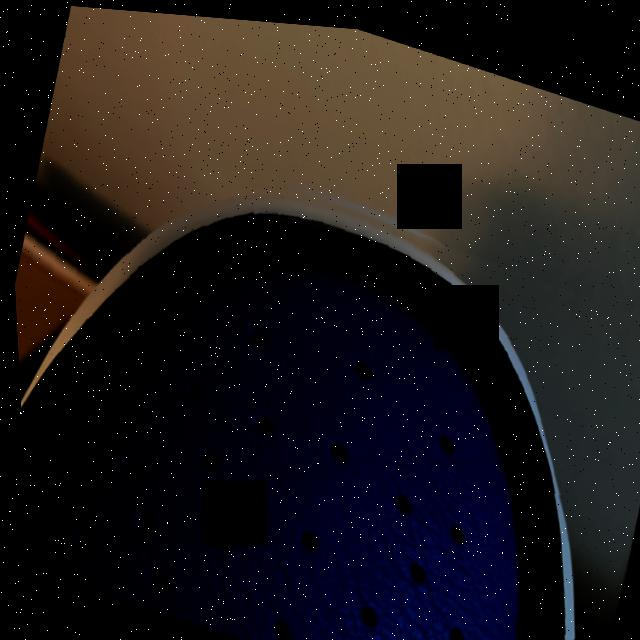shoe: (4, 94, 640, 640)
